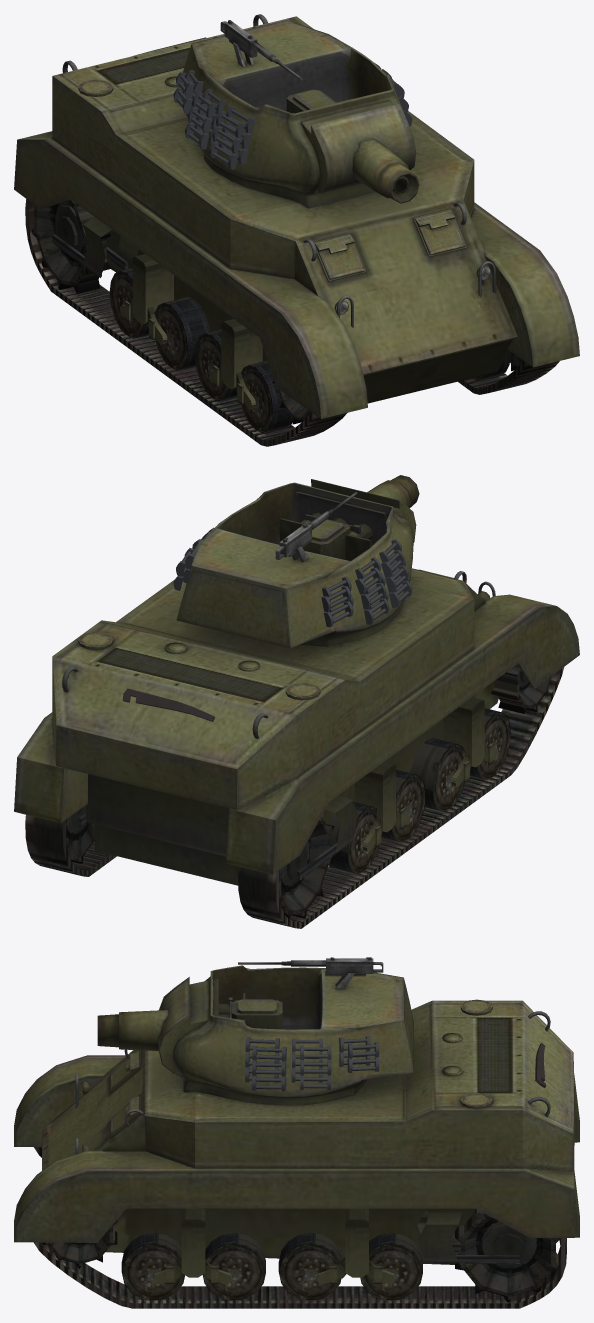
3 views of the same model, one above another, from view 1: azimuth 30°, elevation 25°; view 2: azimuth 150°, elevation 25°; view 3: azimuth 270°, elevation 25° (orthographic). The views are drawn at different scales.
Parts seen in each view (by area): view 1: 中火炮 m8; view 2: 中火炮 m8; view 3: 中火炮 m8.
Boxes of the visible parts, x1,y1,x2,y2 form: 中火炮 m8: (14, 14, 579, 446); 中火炮 m8: (14, 475, 579, 928); 中火炮 m8: (14, 957, 579, 1308).
Size of the model in its own units: 1.38 by 1.56 by 2.83.
Materials: 3 (2 with a texture image).
